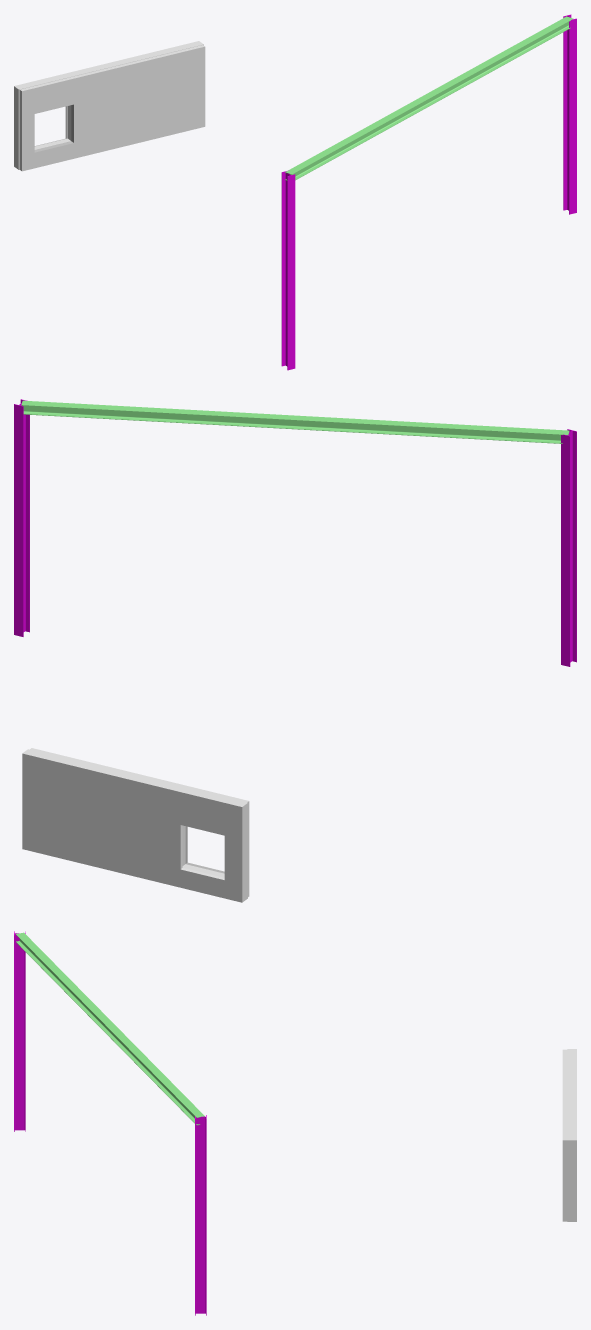
The model's file is rak.glb.
3 views of the same model, one above another, from view 1: azimuth 30°, elevation 25°; view 2: azimuth 150°, elevation 25°; view 3: azimuth 270°, elevation 25° (orthographic). The views are drawn at different scales.
Parts seen in each view (by area): view 1: product-59fabac9-0000-000b-3135-303936303430-body, product-58ef262c-0000-0031-3134-393230363739-body, product-58ef262c-0000-0029-3134-393230363739-body, product-58ef262c-0000-002d-3134-393230363739-body, product-59fabac9-0000-000f-3135-303936303430-body, product-59fabac9-0000-0013-3135-303936303430-body; view 2: product-59fabac9-0000-0013-3135-303936303430-body, product-58ef262c-0000-0031-3134-393230363739-body, product-58ef262c-0000-0029-3134-393230363739-body, product-58ef262c-0000-002d-3134-393230363739-body, product-59fabac9-0000-000f-3135-303936303430-body, product-59fabac9-0000-000b-3135-303936303430-body; view 3: product-58ef262c-0000-0031-3134-393230363739-body, product-58ef262c-0000-002d-3134-393230363739-body, product-58ef262c-0000-0029-3134-393230363739-body, product-59fabac9-0000-000f-3135-303936303430-body, product-59fabac9-0000-000b-3135-303936303430-body, product-59fabac9-0000-0013-3135-303936303430-body.
Boxes of the visible parts, x1=… form: product-59fabac9-0000-000b-3135-303936303430-body: x1=19, y1=45, x2=205, y2=171; product-58ef262c-0000-0031-3134-393230363739-body: x1=285, y1=16, x2=573, y2=180; product-58ef262c-0000-0029-3134-393230363739-body: x1=281, y1=170, x2=295, y2=370; product-58ef262c-0000-002d-3134-393230363739-body: x1=563, y1=14, x2=576, y2=214; product-59fabac9-0000-000f-3135-303936303430-body: x1=15, y1=42, x2=203, y2=169; product-59fabac9-0000-0013-3135-303936303430-body: x1=14, y1=41, x2=199, y2=166; product-59fabac9-0000-0013-3135-303936303430-body: x1=22, y1=752, x2=243, y2=902; product-58ef262c-0000-0031-3134-393230363739-body: x1=21, y1=400, x2=569, y2=443; product-58ef262c-0000-0029-3134-393230363739-body: x1=561, y1=429, x2=576, y2=666; product-58ef262c-0000-002d-3134-393230363739-body: x1=14, y1=399, x2=29, y2=636; product-59fabac9-0000-000f-3135-303936303430-body: x1=24, y1=749, x2=247, y2=901; product-59fabac9-0000-000b-3135-303936303430-body: x1=30, y1=748, x2=249, y2=896; product-58ef262c-0000-0031-3134-393230363739-body: x1=15, y1=932, x2=204, y2=1125; product-58ef262c-0000-002d-3134-393230363739-body: x1=195, y1=1115, x2=206, y2=1315; product-58ef262c-0000-0029-3134-393230363739-body: x1=14, y1=931, x2=25, y2=1131; product-59fabac9-0000-000f-3135-303936303430-body: x1=567, y1=1049, x2=574, y2=1221; product-59fabac9-0000-000b-3135-303936303430-body: x1=562, y1=1049, x2=567, y2=1221; product-59fabac9-0000-0013-3135-303936303430-body: x1=574, y1=1049, x2=576, y2=1221.
Size of the model in its own units: 14.7 by 7.21 by 18.67.
